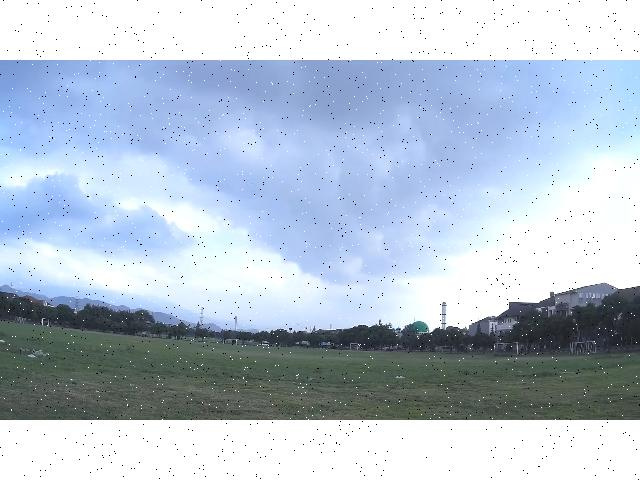Anti-Drone: (242, 181, 264, 190)
